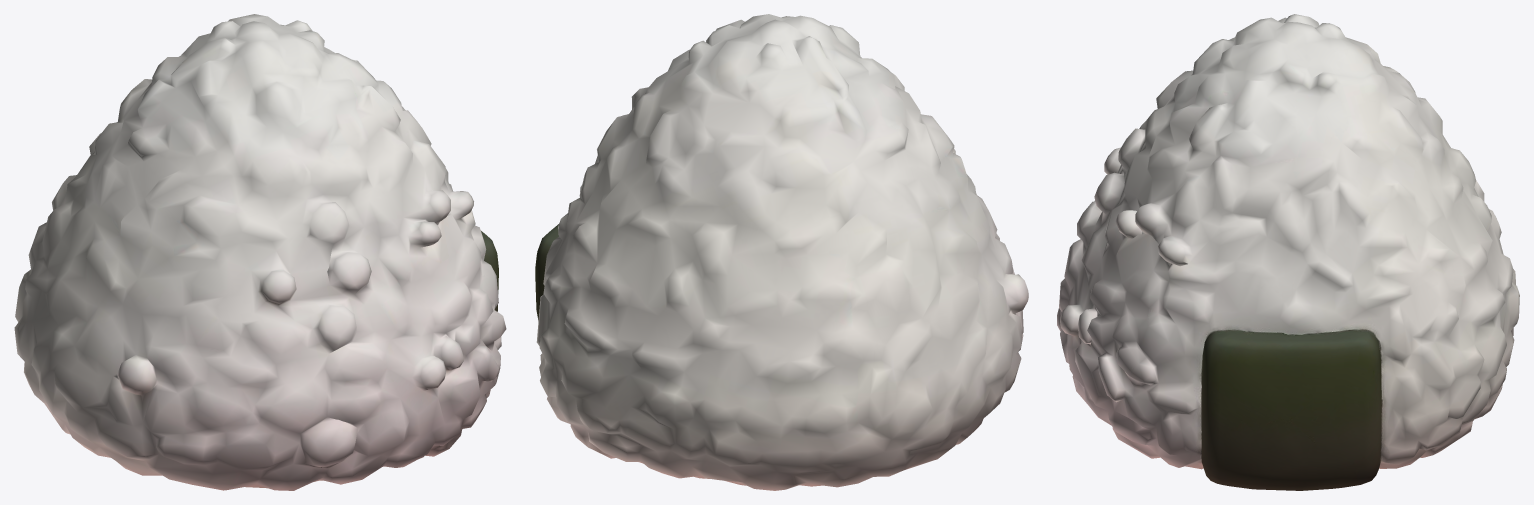
The model's file is onigiri.glb.
3 renders of one model, left to right at view 1: azimuth 30°, elevation 25°; view 2: azimuth 150°, elevation 25°; view 3: azimuth 270°, elevation 25°, orthographic. The views are drawn at different scales.
Parts seen in each view (by area): view 1: tripo_node_732f684d-1282-4b2b-abfb-0accf06342b8; view 2: tripo_node_732f684d-1282-4b2b-abfb-0accf06342b8; view 3: tripo_node_732f684d-1282-4b2b-abfb-0accf06342b8.
Boxes of the visible parts, x1,y1,x2,y2 form: tripo_node_732f684d-1282-4b2b-abfb-0accf06342b8: (14,14,506,490); tripo_node_732f684d-1282-4b2b-abfb-0accf06342b8: (535,14,1028,490); tripo_node_732f684d-1282-4b2b-abfb-0accf06342b8: (1057,14,1519,490).
Size of the model in its own units: 0.998 by 0.9238 by 0.9941.
Materials: 1 (1 with a texture image).
